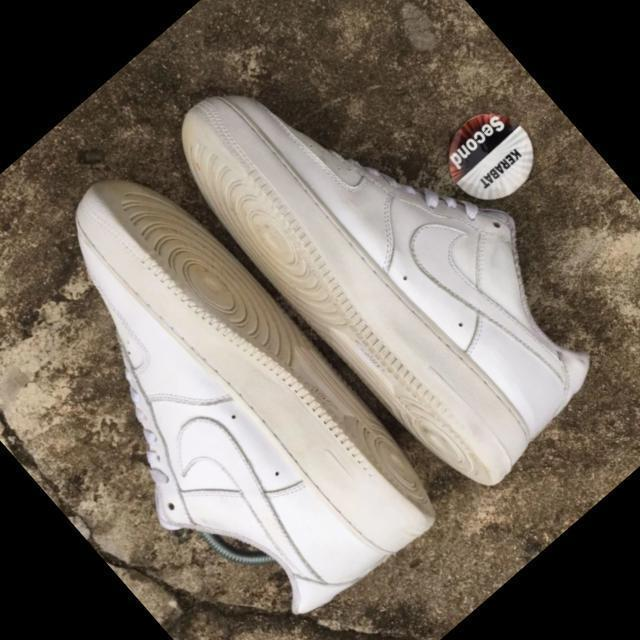nike original air force: (140, 0, 640, 510), (0, 143, 463, 640)
